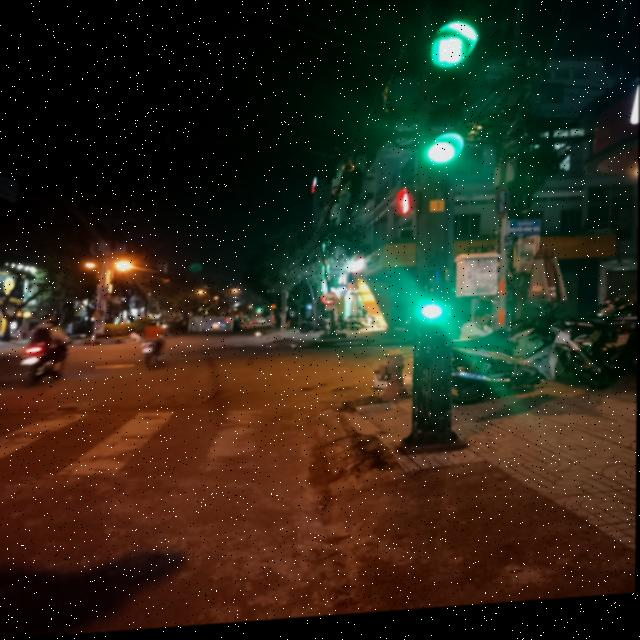Green: (419, 71, 470, 179), (413, 260, 448, 336)
